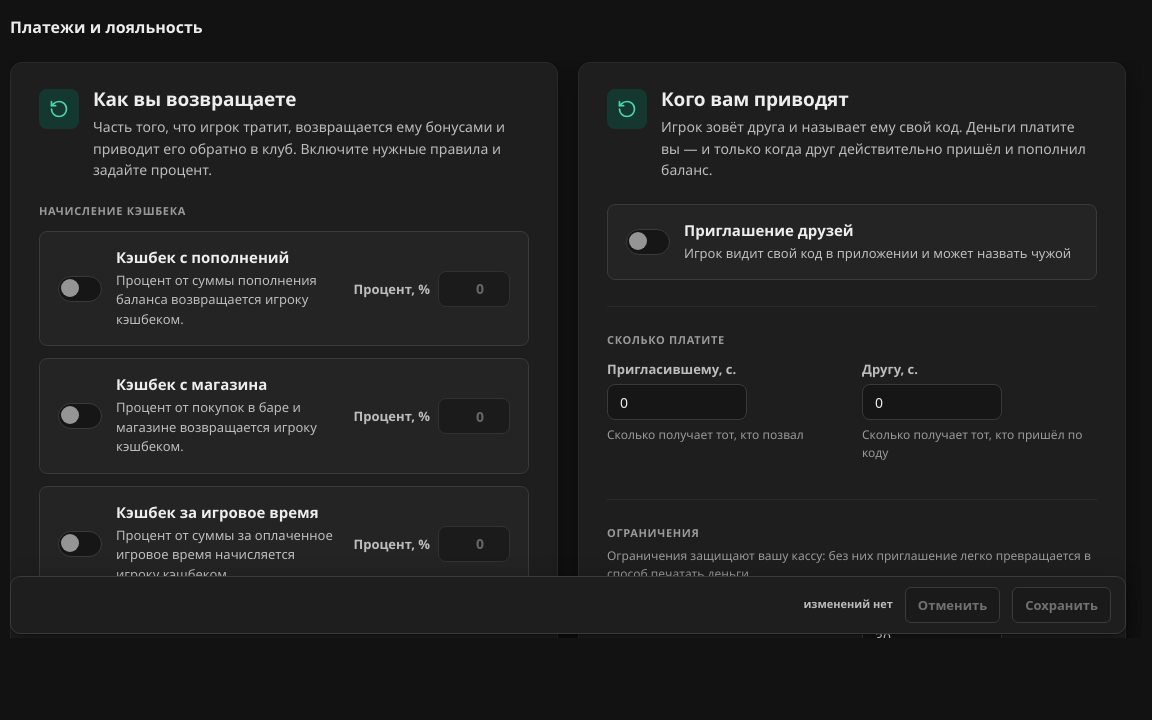
Scenario: PaymentsLoyaltyDestination (одна страница, без табов) › keeps the save bar disabled until something changes
The image size is (1152, 720).
Expected: the button "Сохранить" is disabled, [1012, 587, 1111, 623]
Click the checkbox named "кэшбек с пополнений" at (80, 289), box [58, 276, 102, 302]
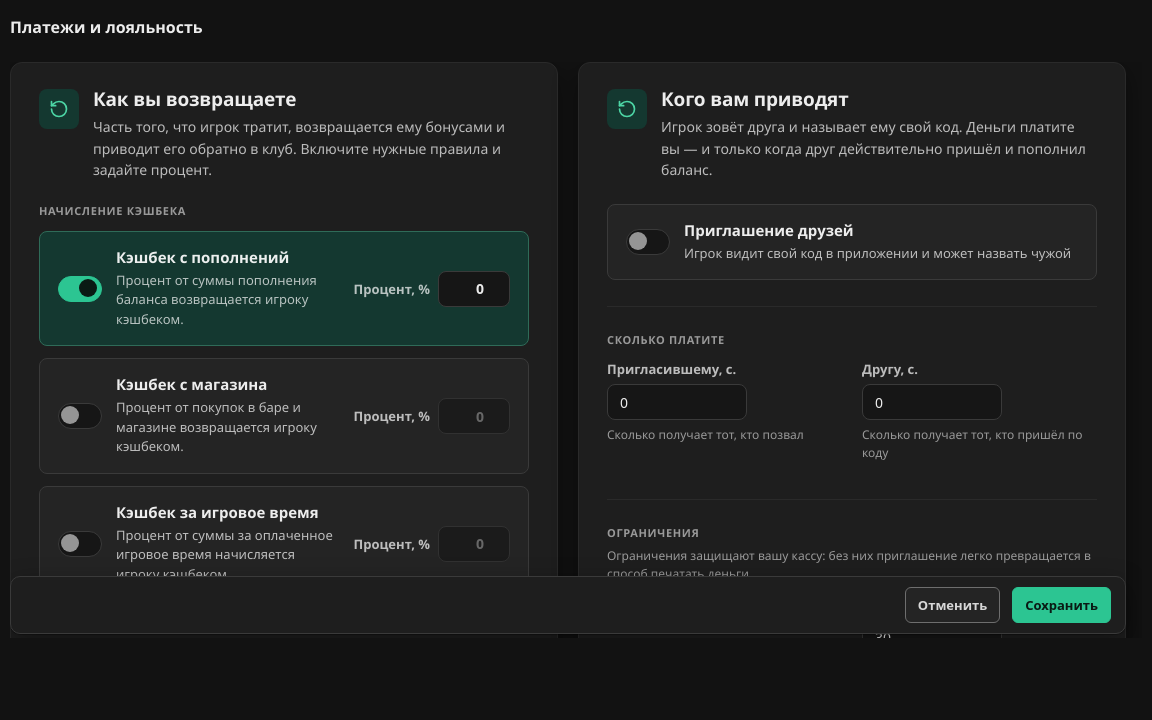
Now the button "Сохранить" is enabled, box [1012, 587, 1111, 623]
